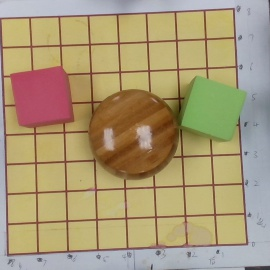chess: (90, 89, 180, 182)
